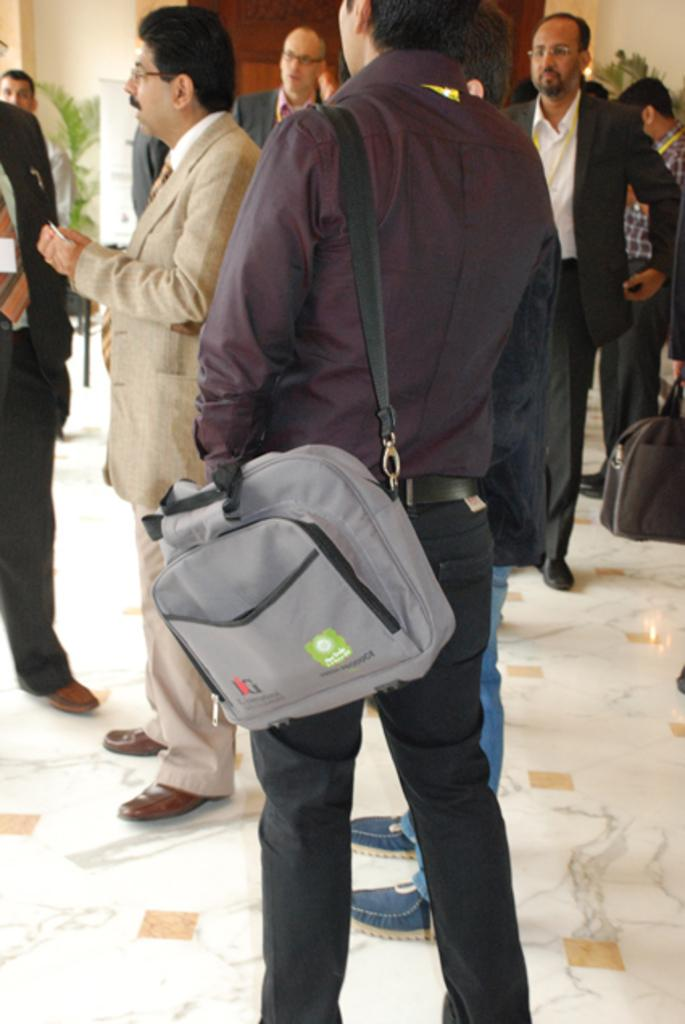Luggage-and-bags: (142, 100, 455, 732), (596, 377, 683, 548)
